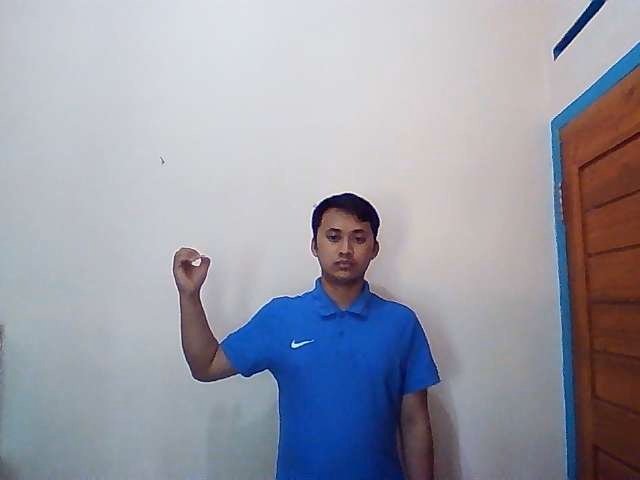O: (171, 246, 212, 294)
